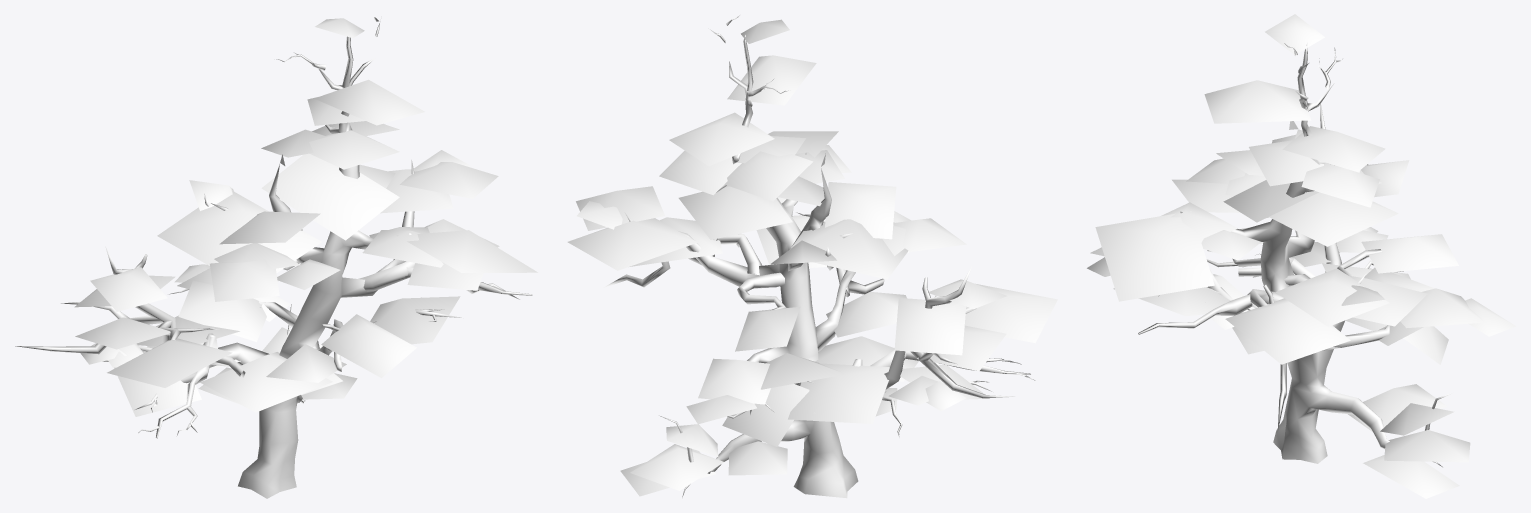
File: s7_fightpve_shui01.FBX
3 renders of one model, left to right at view 1: azimuth 30°, elevation 25°; view 2: azimuth 150°, elevation 25°; view 3: azimuth 270°, elevation 25°, orthographic. The views are drawn at different scales.
Visible parts, largest first — view 1: DrawCall_190_010, DrawCall_190_009; view 2: DrawCall_190_010, DrawCall_190_009; view 3: DrawCall_190_010, DrawCall_190_009.
Boxes of the visible parts, x1,y1,x2,y2 form: DrawCall_190_010: (74,18,537,416); DrawCall_190_009: (15,17,532,498); DrawCall_190_010: (567,19,1057,496); DrawCall_190_009: (603,15,1035,498); DrawCall_190_010: (1087,14,1515,498); DrawCall_190_009: (1138,43,1452,467).
Bounding box in the file's own units: 3.57 × 3.31 × 2.81.
